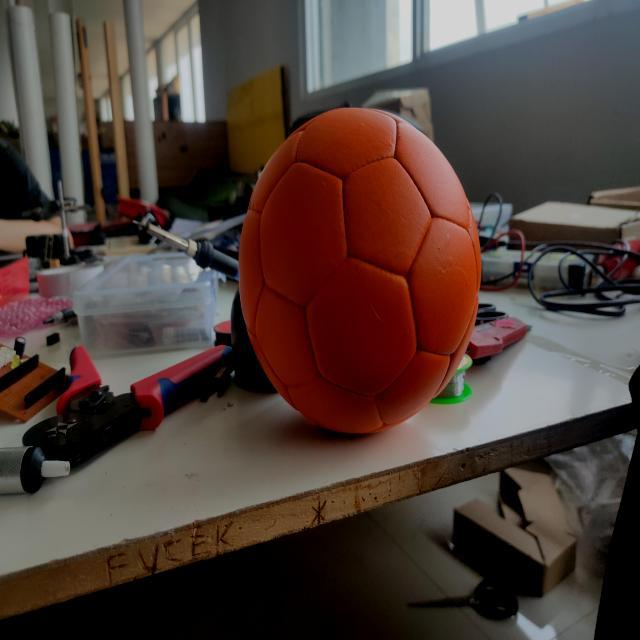bola: (210, 94, 495, 483)
